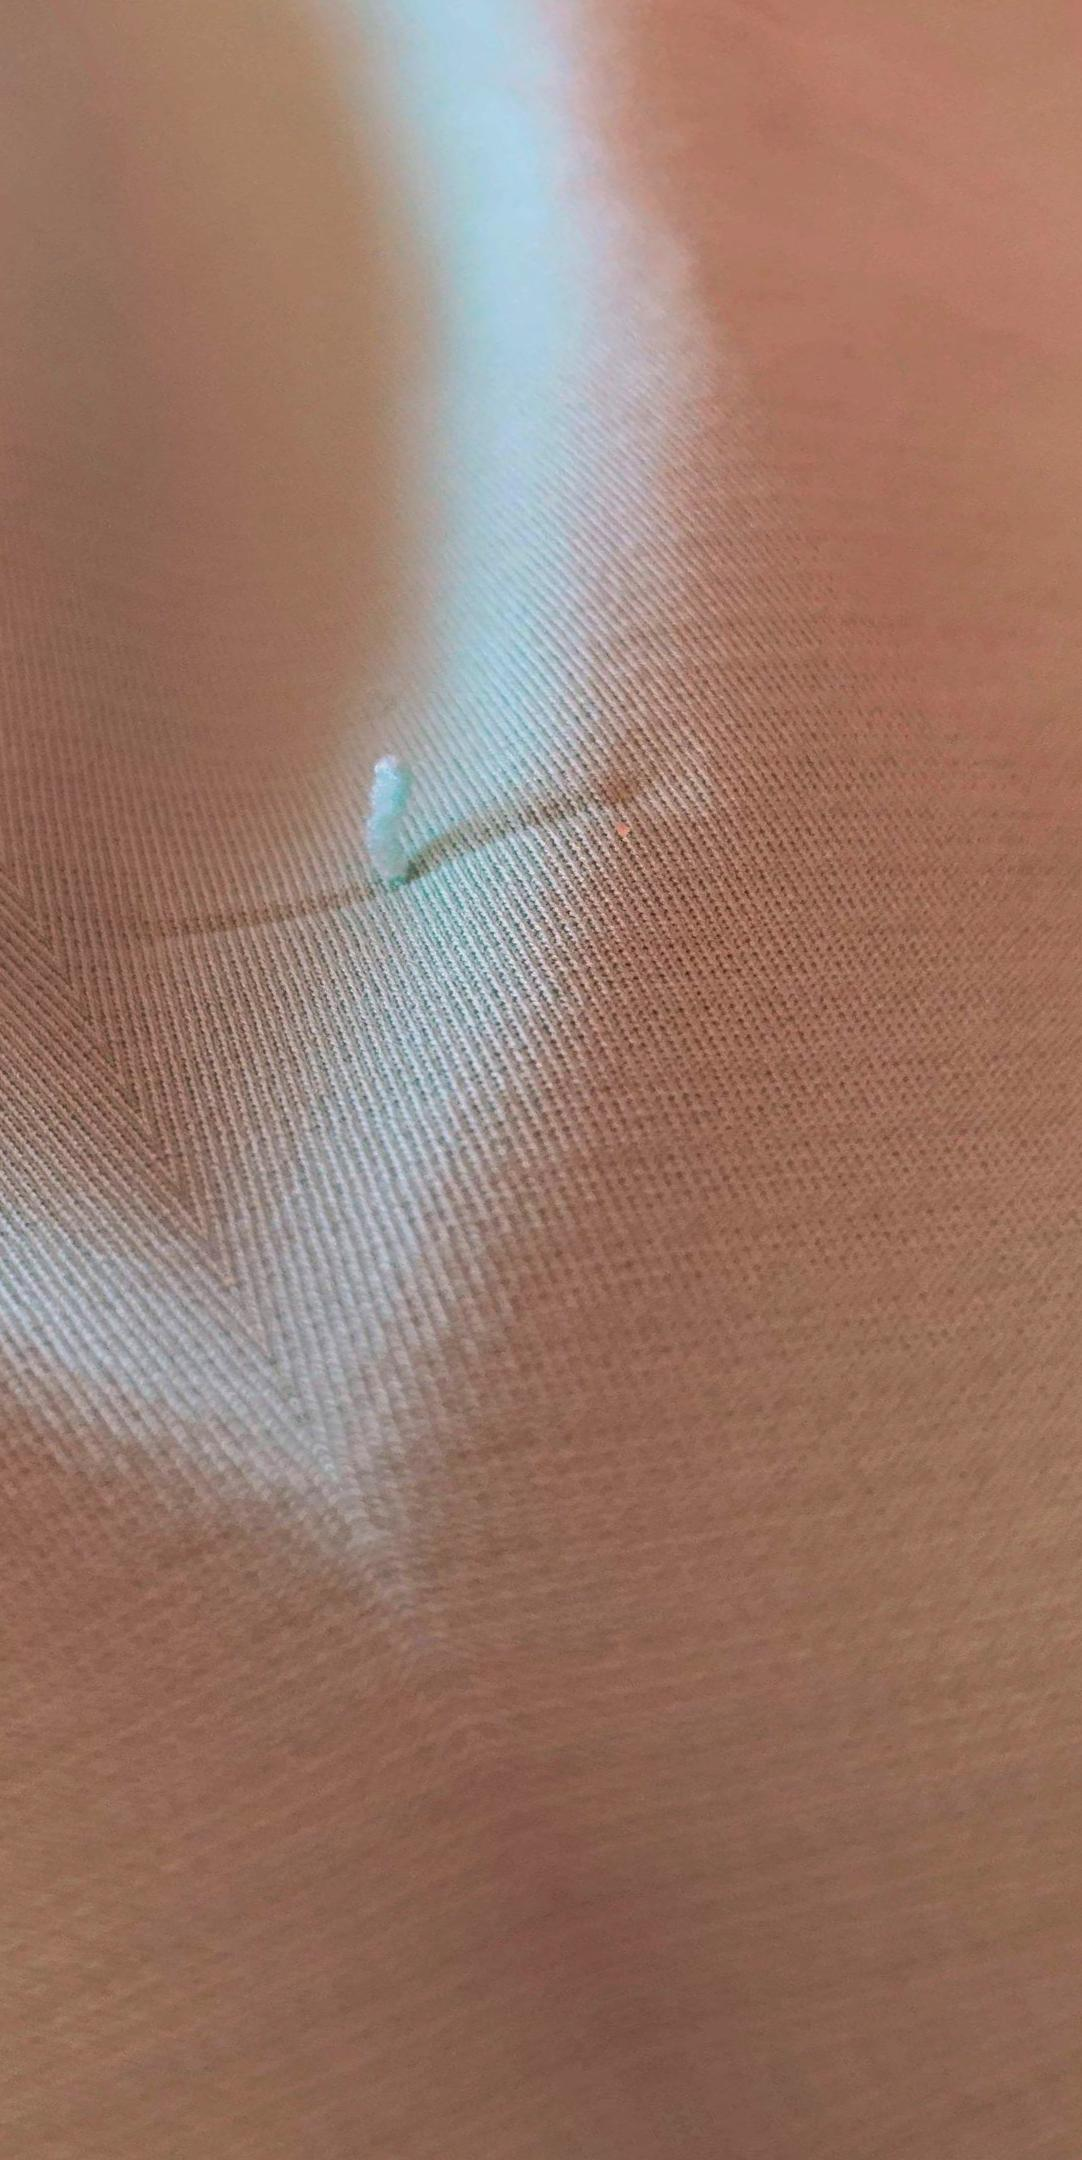snag: (288, 687, 486, 942)
